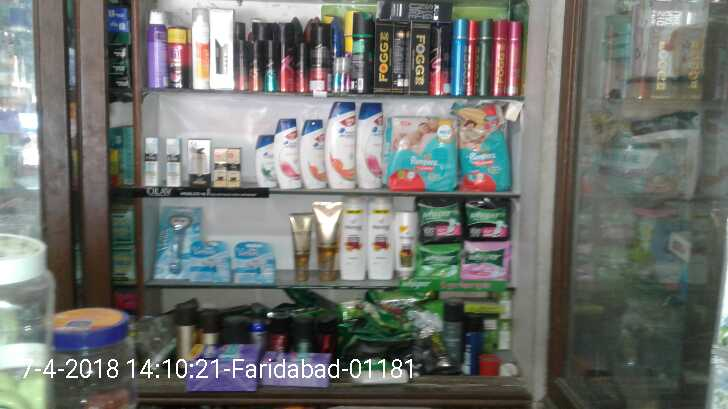venus: (153, 207, 189, 278), (189, 241, 229, 282), (234, 242, 274, 283)
